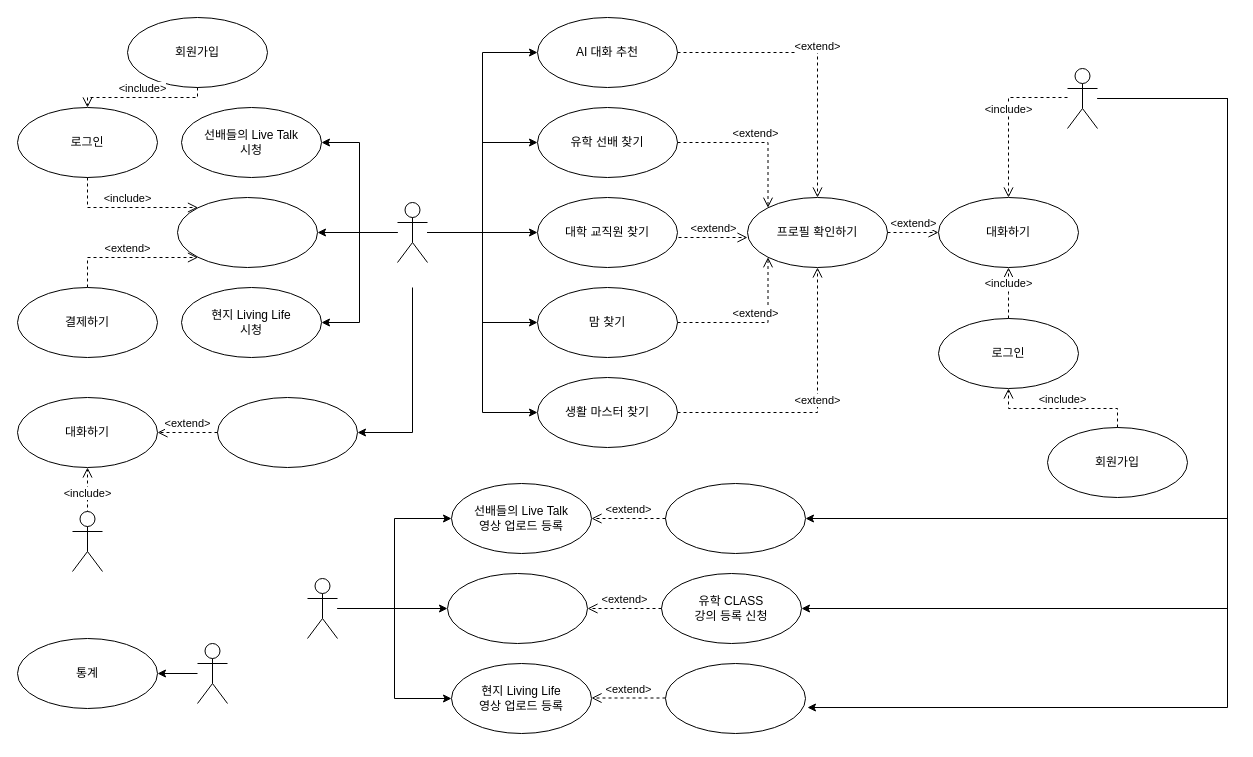
This 1253x757 diagram has some shape labels left out. Here are the shapes that lost their labels. From the top down, the box of each, then its label:
(1066, 68, 1098, 128): 현지 유학생 / 맘 / 교직원 / 마스터
(176, 196, 318, 268): 유학 CLASS 신청
(396, 202, 428, 262): 유학 준비생 / 부모
(216, 396, 358, 468): ARGO 유학가기 상담하기
(664, 482, 806, 554): 선배들의 Live Talk 영상 업로드 신청
(72, 510, 102, 572): 유학원 상담사
(306, 578, 338, 638): ARGO 운영 관리자
(446, 572, 588, 644): 유학 CLASS 강의 등록
(196, 642, 228, 704): 해외 대학 관리자 (스폰서)
(664, 662, 806, 734): 현지 Living Life 영상 업로드 신청
